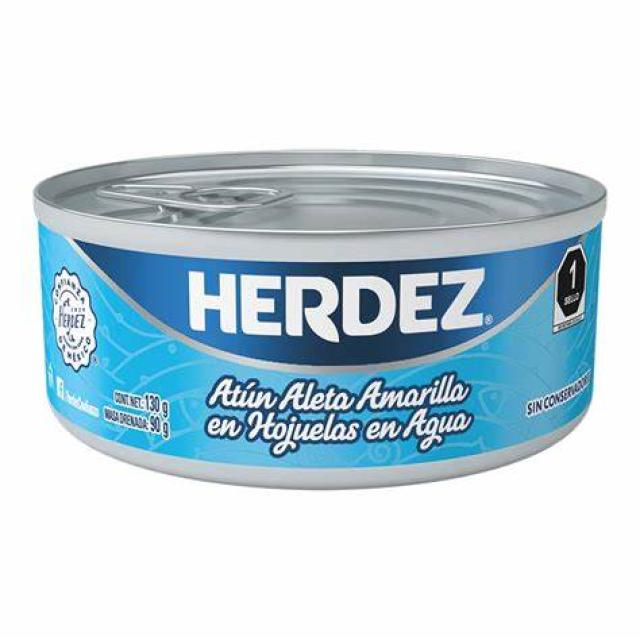Lata: (6, 158, 618, 504)
